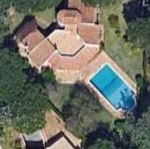pool: (97, 71, 129, 106)
